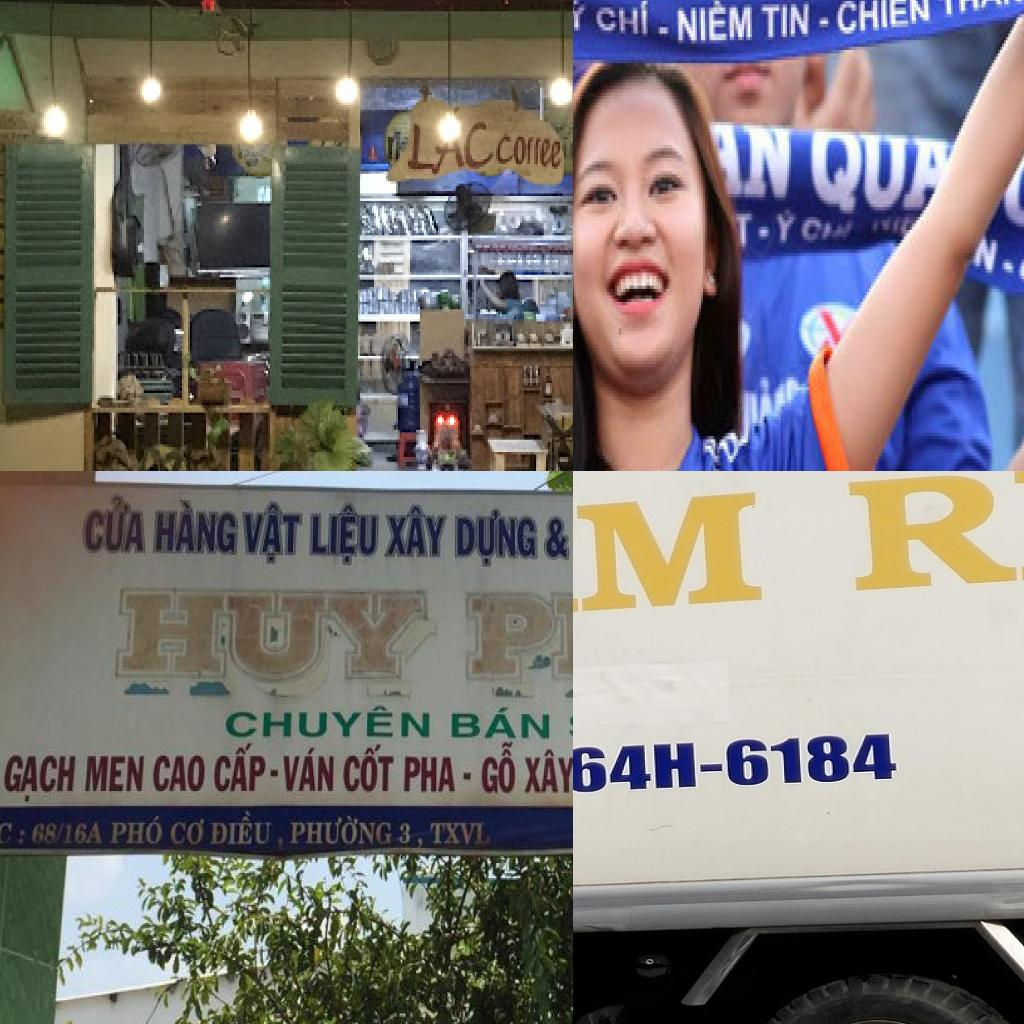text: (108, 580, 438, 692), (573, 471, 765, 630), (847, 471, 1024, 595), (453, 568, 573, 700), (811, 132, 951, 214), (226, 699, 434, 741), (573, 740, 700, 799), (404, 102, 496, 182), (454, 498, 538, 575), (149, 495, 240, 565), (305, 496, 386, 572), (74, 485, 148, 558), (380, 498, 448, 574), (239, 495, 301, 572), (738, 119, 793, 204), (2, 751, 83, 808), (286, 810, 394, 850), (836, 0, 936, 43), (672, 0, 756, 49), (447, 707, 554, 744), (210, 741, 270, 801), (82, 749, 145, 798), (494, 130, 566, 172), (278, 746, 338, 796), (521, 746, 573, 803), (341, 742, 396, 794), (208, 810, 276, 852), (401, 748, 459, 796), (995, 145, 1024, 240), (152, 748, 208, 796), (592, 0, 655, 40), (28, 818, 106, 850), (758, 0, 811, 46), (536, 506, 573, 571), (799, 210, 859, 250), (105, 812, 167, 850), (423, 821, 494, 853), (480, 742, 520, 798), (934, 0, 1024, 23), (973, 230, 1004, 279), (170, 818, 206, 848), (732, 207, 756, 250), (773, 207, 797, 250), (397, 814, 414, 850), (573, 0, 588, 40), (0, 814, 17, 849)
